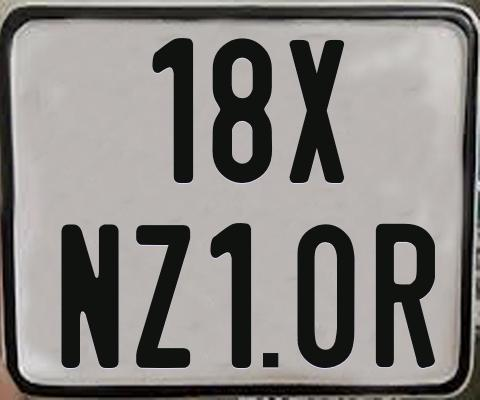0: (295, 224, 358, 373)
1: (151, 37, 196, 186), (209, 220, 251, 367)
8: (212, 36, 272, 183)
N: (61, 223, 125, 369)
R: (373, 223, 432, 368)
X: (287, 37, 347, 182)
Z: (136, 222, 190, 369)
